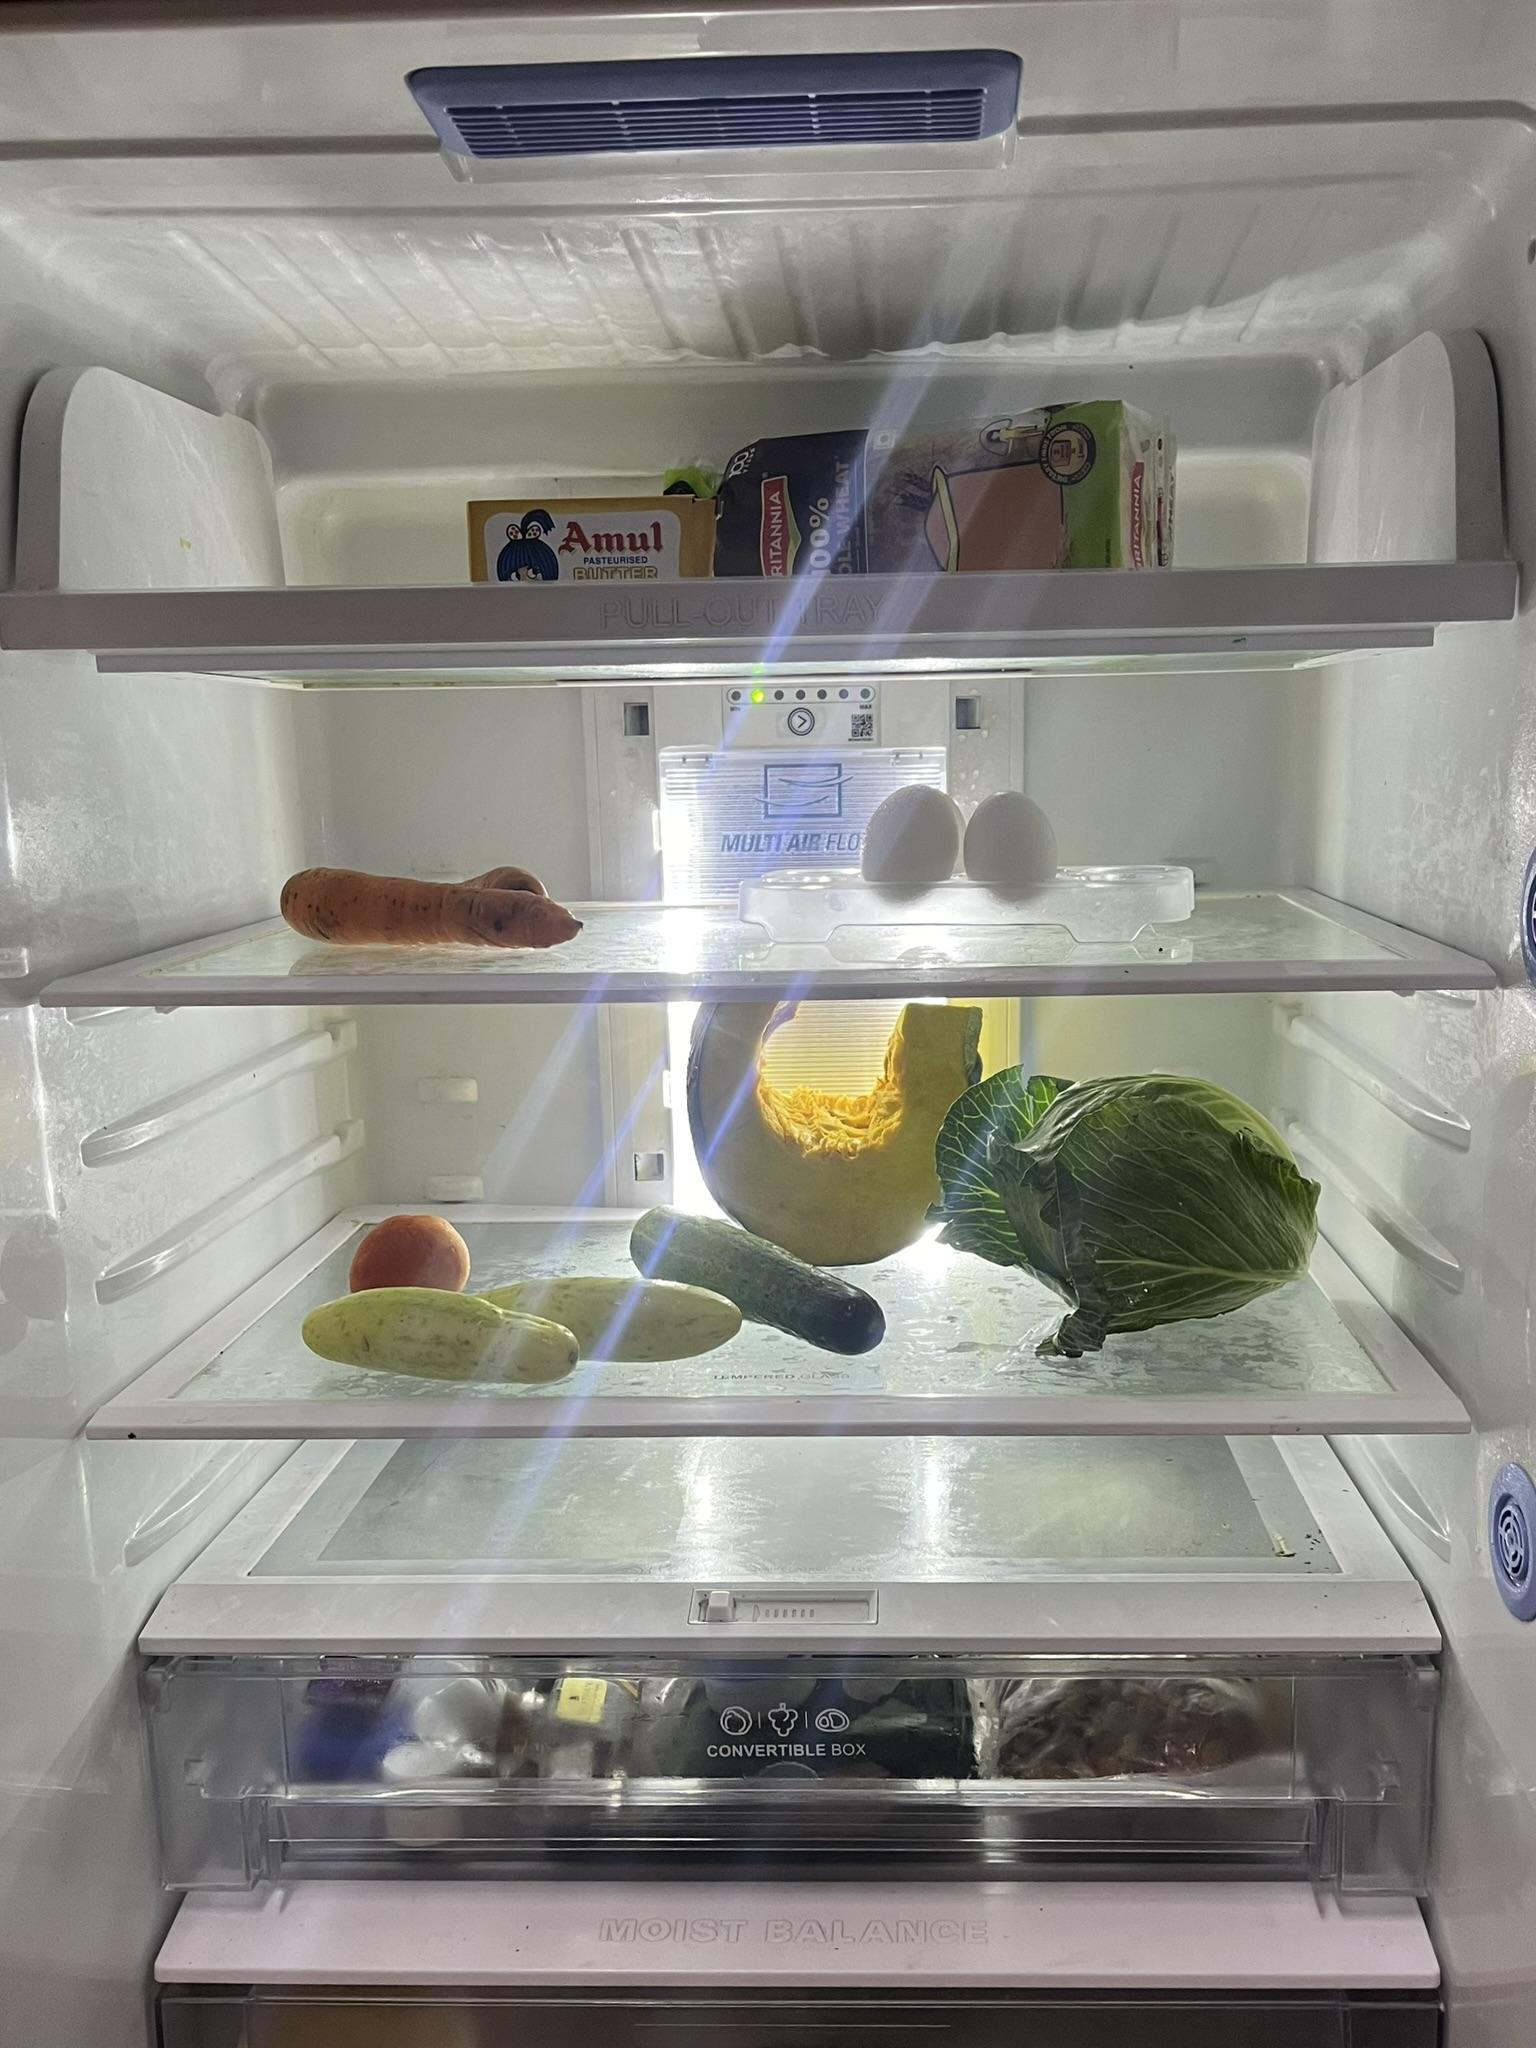bread: (707, 387, 1183, 566)
butter: (463, 484, 726, 587)
cabbage: (916, 1053, 1326, 1374)
carrots: (273, 856, 579, 947)
cucumber: (294, 1280, 750, 1393), (623, 1206, 897, 1359)
egg: (854, 769, 1060, 900)
pumpkin: (687, 993, 983, 1263)
tomato: (353, 1206, 470, 1313)
